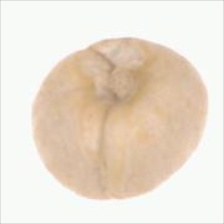L4: (31, 36, 209, 200)
